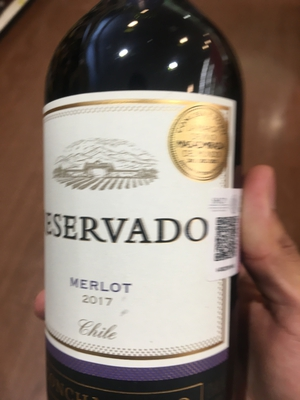reservado merlot: (43, 14, 238, 400)
